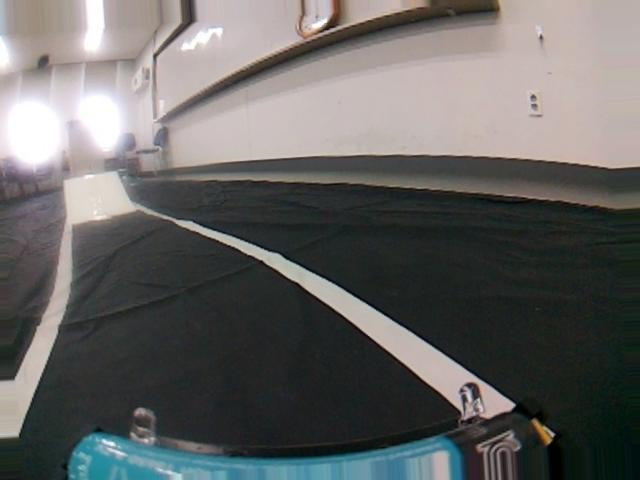left: (4, 225, 625, 480)
